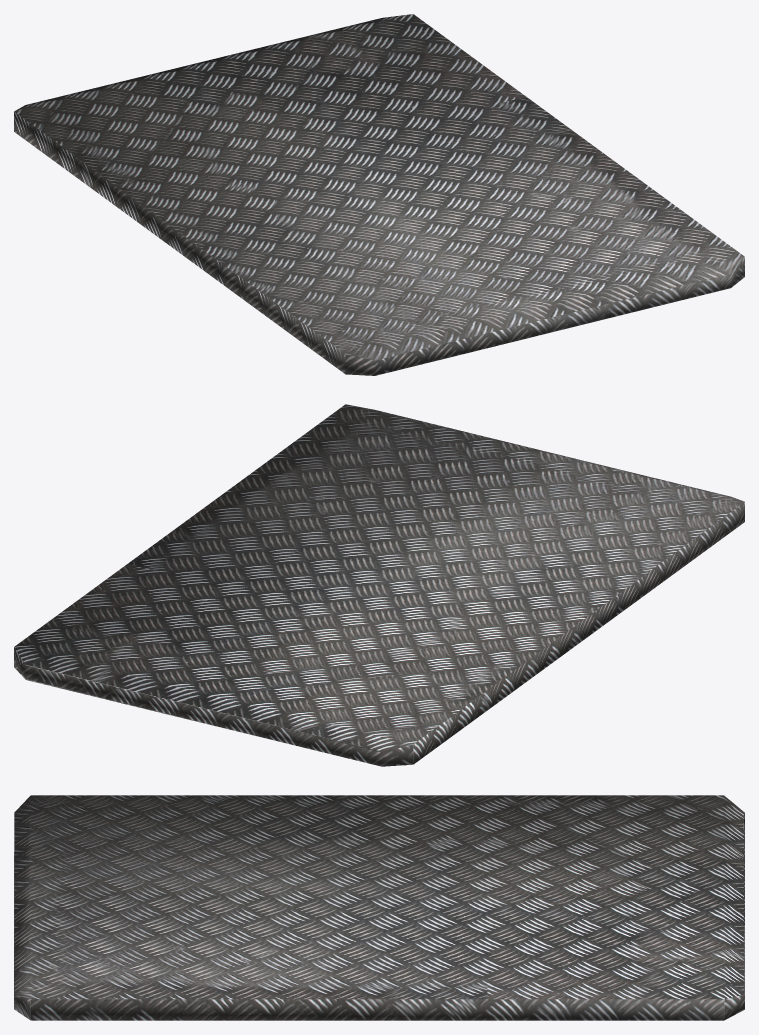
Rendered from plataformalliscant.fbx.
3 renders of one model, top to bottom at view 1: azimuth 30°, elevation 25°; view 2: azimuth 150°, elevation 25°; view 3: azimuth 270°, elevation 25°, orthographic. The views are drawn at different scales.
Parts seen in each view (by area): view 1: Cube_001; view 2: Cube_001; view 3: Cube_001.
Boxes of the visible parts, left/top/right/bottom form: Cube_001: left=14, top=14, right=744, bottom=375; Cube_001: left=14, top=404, right=744, bottom=766; Cube_001: left=14, top=795, right=744, bottom=1020.
Bounding box in the file's own units: 5.55 × 0.283 × 8.41.
Materials: 1 (1 with a texture image).
